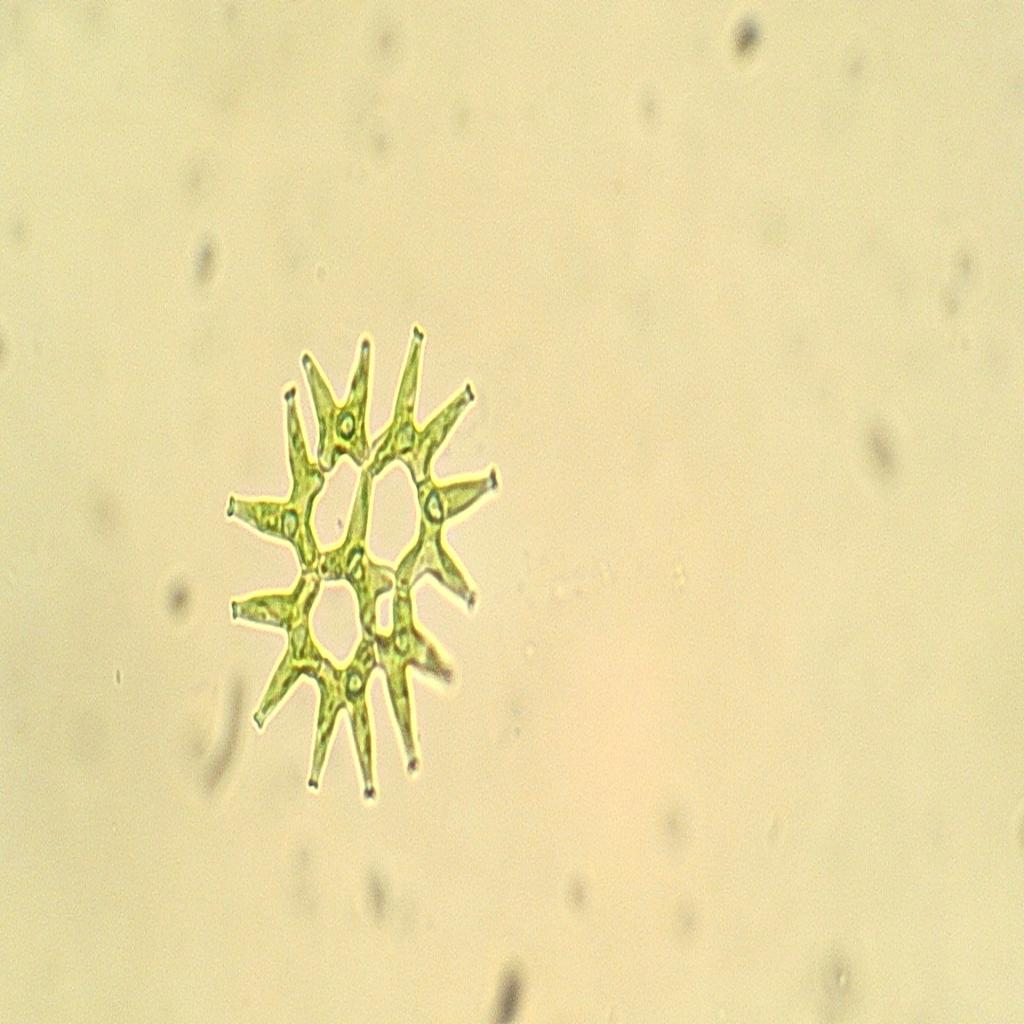Pediastrum_75T: (191, 320, 532, 817)
